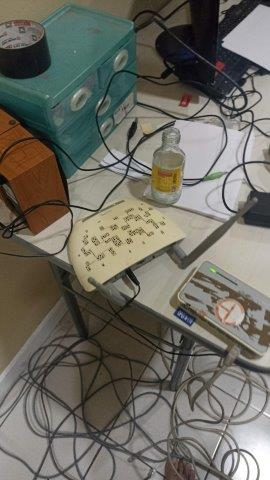botolkaca: (149, 130, 186, 208)
kertas: (142, 117, 256, 230), (222, 4, 270, 71)
